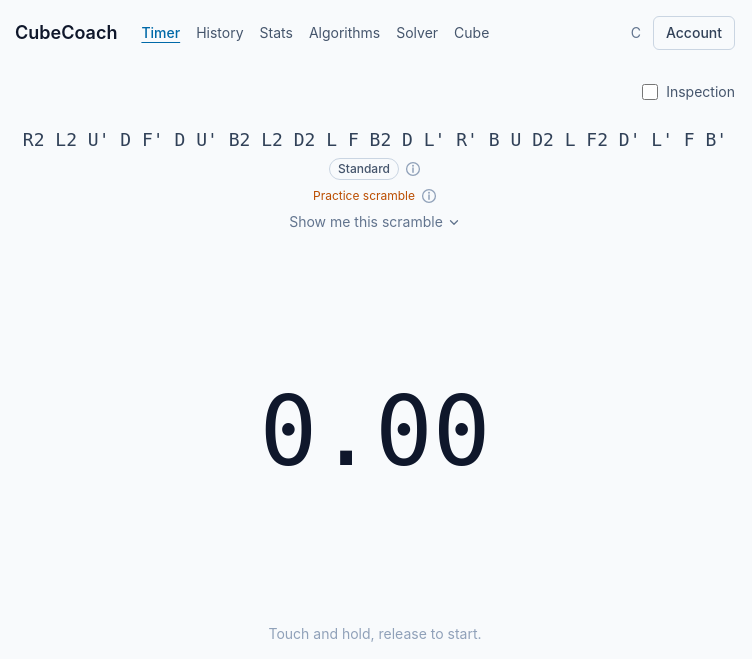
it: TimerPage instructions on a touch device › adapts the inspection instruction too
Click the checkbox labelled "Inspection" at x=650, y=92, box x1=642 y1=84 x2=658 y2=100
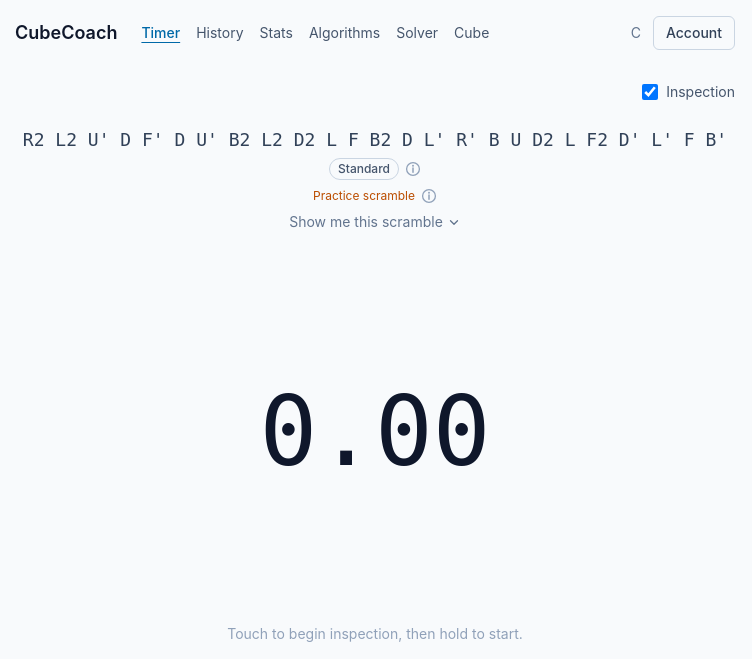
Check: the text "Touch to begin inspection, then hold to start." is shown, box x1=227 y1=625 x2=523 y2=642
